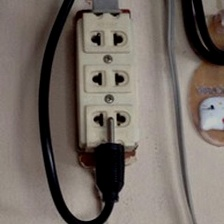three_eye_plug: (70, 7, 143, 159)
